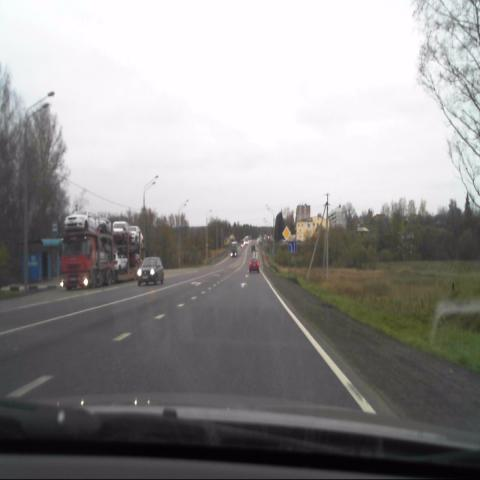2_1: (282, 224, 292, 241)
5_15_2_2: (288, 241, 296, 253)
